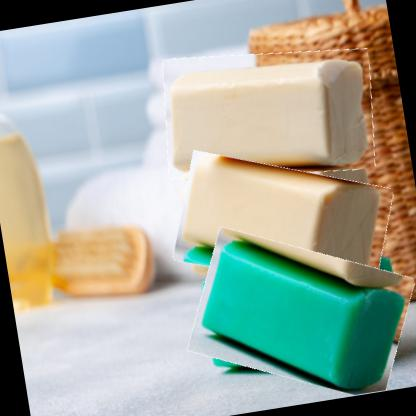soap: (180, 217, 415, 414), (166, 136, 402, 312), (154, 33, 384, 195)
